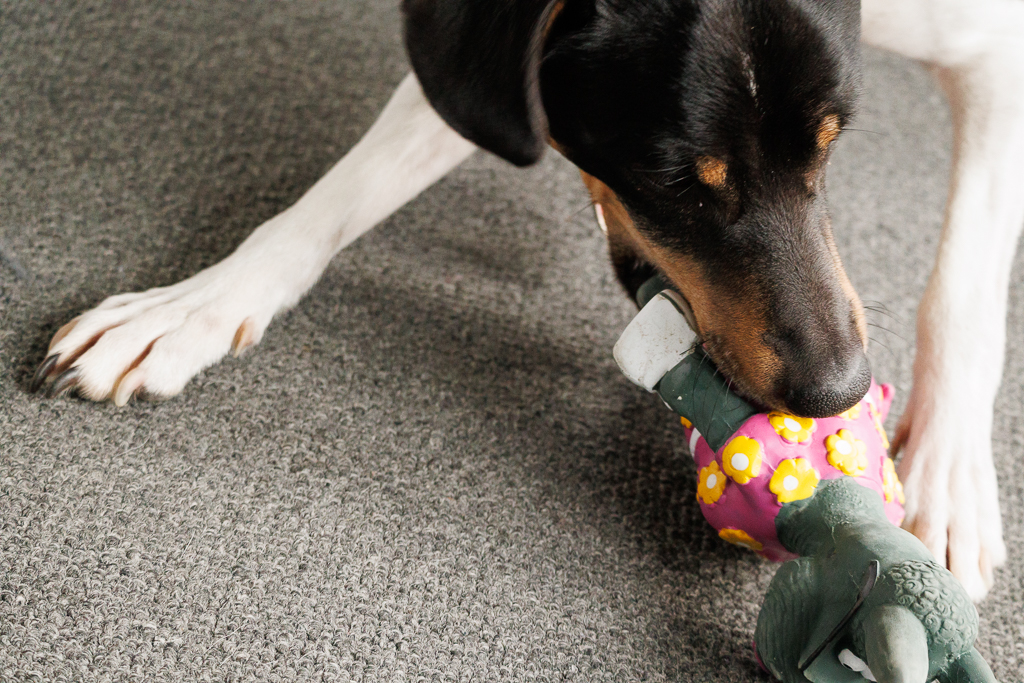Dog: (19, 0, 1024, 622)
Humanoid: (595, 250, 1012, 683)
